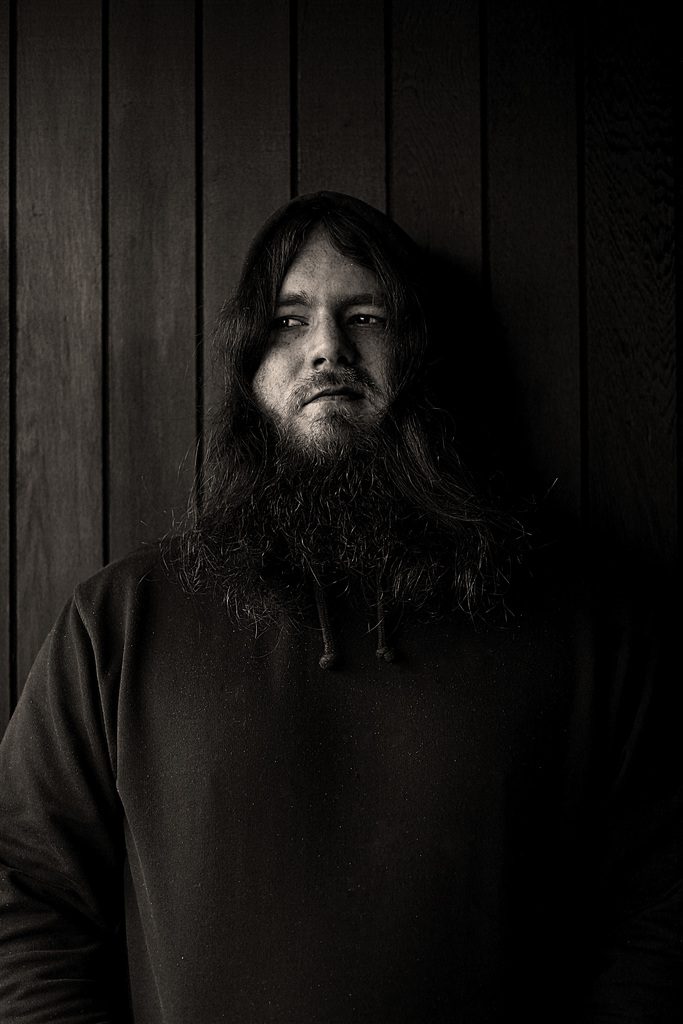Human-face: (258, 237, 396, 461)
